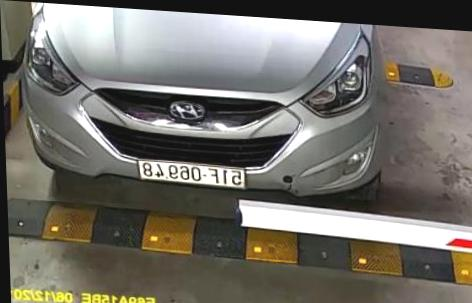License_Plate: (127, 149, 257, 196)
